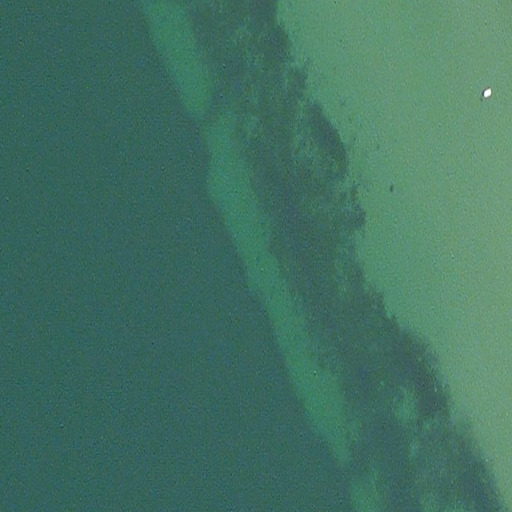ship: (484, 87, 490, 100)
